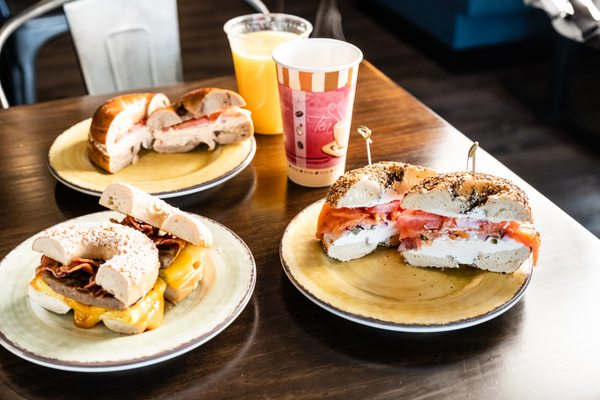soup: (28, 215, 166, 332), (393, 166, 540, 275)
